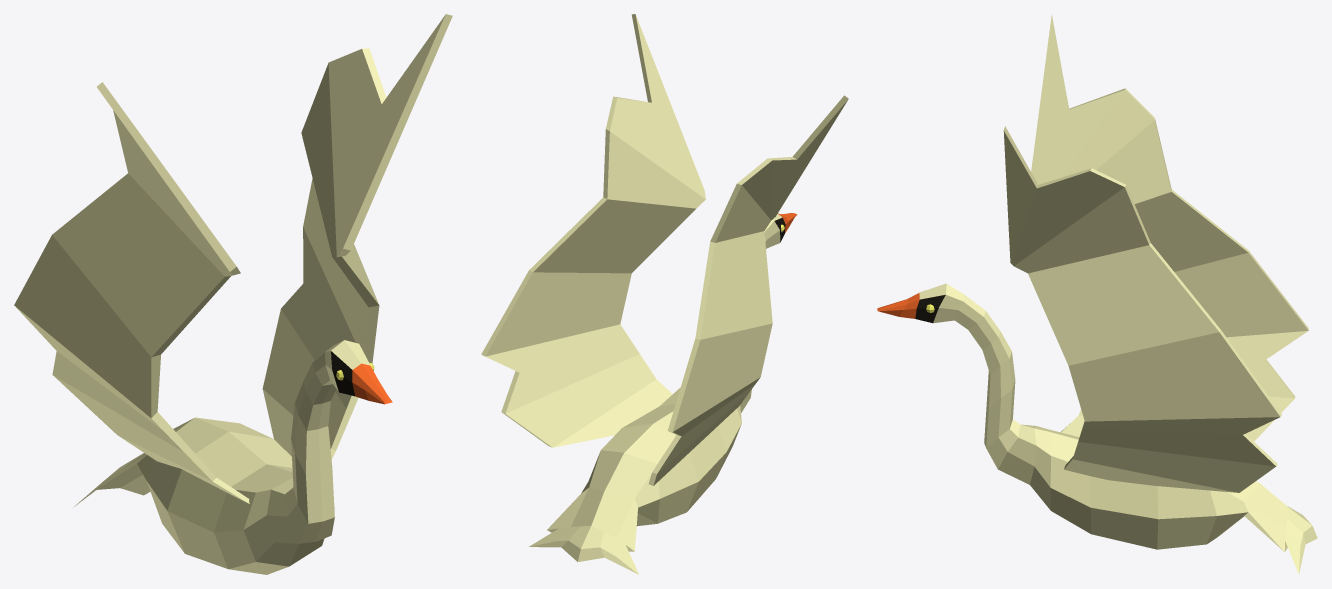
Rendered from Swan.gltf.
3 renders of one model, left to right at view 1: azimuth 30°, elevation 25°; view 2: azimuth 150°, elevation 25°; view 3: azimuth 270°, elevation 25°, orthographic. The views are drawn at different scales.
Parts seen in each view (by area): view 1: Cube.019; view 2: Cube.019; view 3: Cube.019.
Boxes of the visible parts, left/top/right/bottom form: Cube.019: left=14, top=14, right=452, bottom=574; Cube.019: left=481, top=14, right=848, bottom=574; Cube.019: left=877, top=14, right=1317, bottom=574.
Size of the model in its own units: 0.263 by 0.4124 by 0.3521.
Materials: 1 (1 with a texture image).
